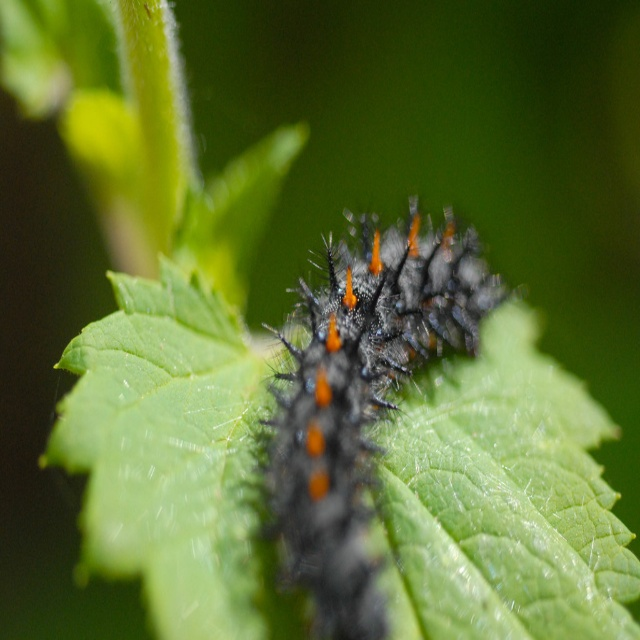Caterpillar: (234, 183, 514, 639)
